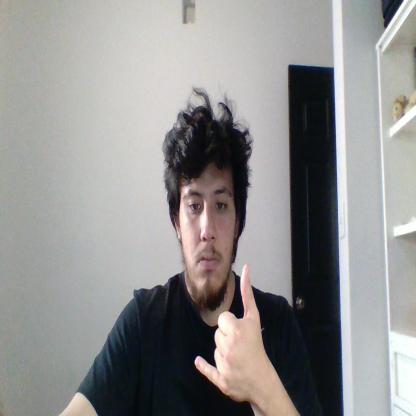Y: (194, 262, 264, 402)
